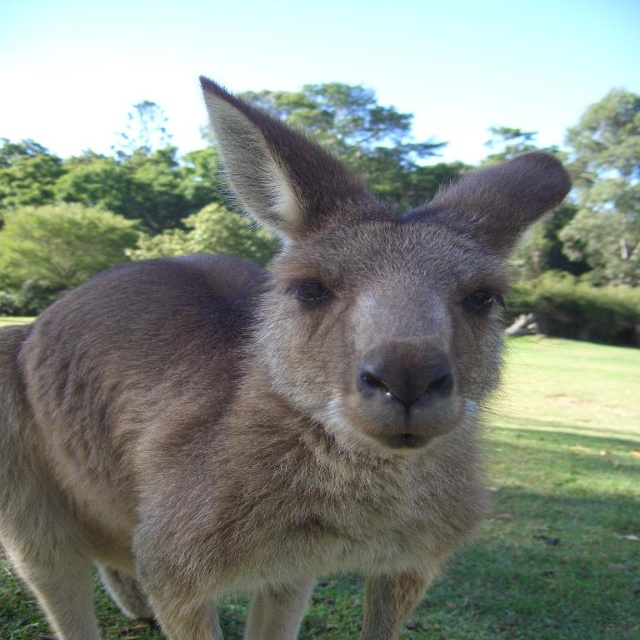Kangaroo: (0, 74, 576, 640)
